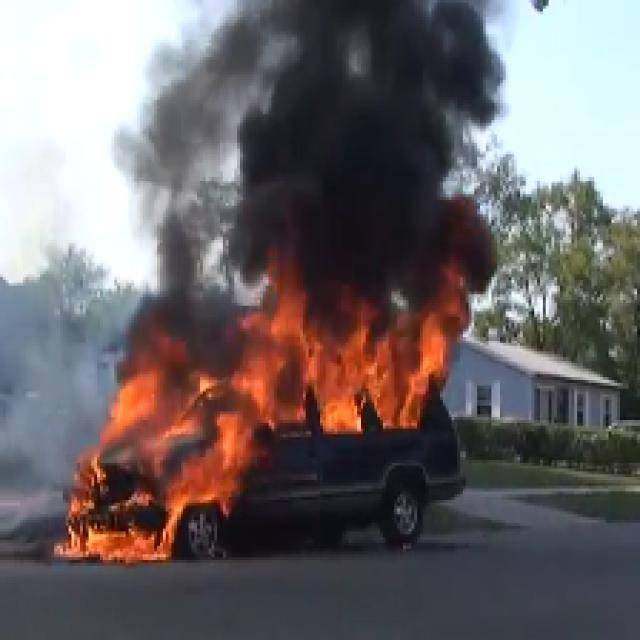fire: (99, 297, 454, 439), (58, 446, 239, 569)
smoke: (148, 0, 517, 251)
